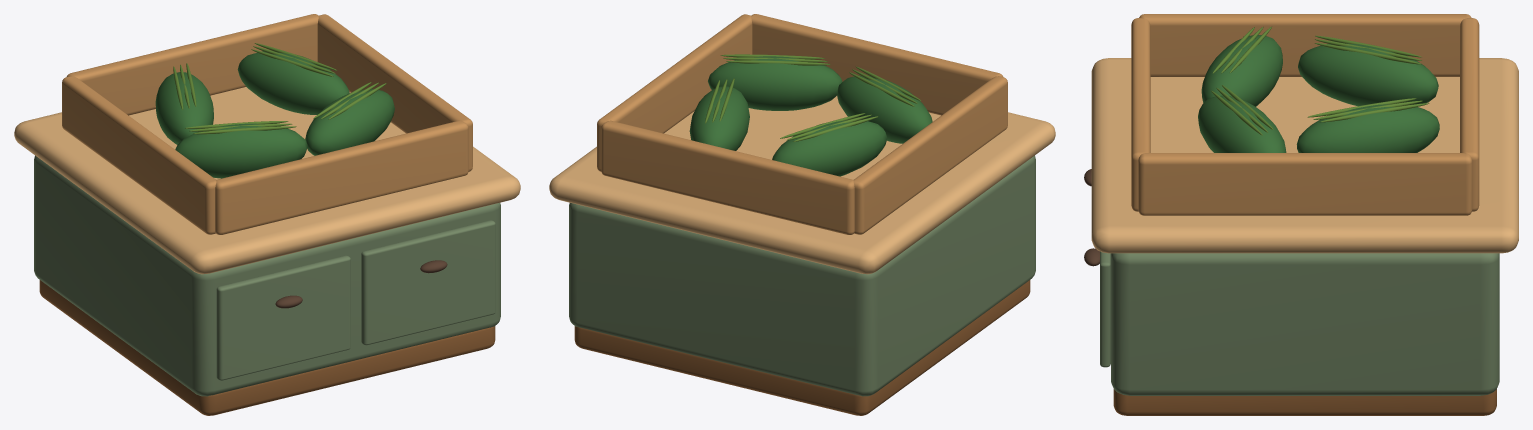
Rendered from source-cucumber.obj.
3 views of the same model, side by side, from view 1: azimuth 30°, elevation 25°; view 2: azimuth 150°, elevation 25°; view 3: azimuth 270°, elevation 25° (orthographic). The views are drawn at different scales.
Visible parts, largest first — view 1: source-cucumber_sageDark, source-cucumber_oak, source-cucumber_oakLight, source-cucumber_cucumber, source-cucumber_oakDark, source-cucumber_leaf, source-cucumber_cocoa; view 2: source-cucumber_sageDark, source-cucumber_oak, source-cucumber_oakLight, source-cucumber_cucumber, source-cucumber_oakDark, source-cucumber_leaf; view 3: source-cucumber_sageDark, source-cucumber_oak, source-cucumber_oakLight, source-cucumber_cucumber, source-cucumber_oakDark, source-cucumber_leaf.
Part boxes in pixels (bbox=[...]): source-cucumber_sageDark: bbox=[34, 155, 500, 396]; source-cucumber_oak: bbox=[62, 14, 472, 234]; source-cucumber_oakLight: bbox=[14, 87, 520, 274]; source-cucumber_cucumber: bbox=[155, 51, 394, 178]; source-cucumber_oakDark: bbox=[39, 280, 495, 415]; source-cucumber_leaf: bbox=[173, 43, 386, 134]; source-cucumber_cocoa: bbox=[275, 260, 447, 308]; source-cucumber_sageDark: bbox=[569, 155, 1035, 396]; source-cucumber_oak: bbox=[597, 14, 1007, 234]; source-cucumber_oakLight: bbox=[549, 96, 1055, 274]; source-cucumber_cucumber: bbox=[689, 56, 932, 176]; source-cucumber_oakDark: bbox=[574, 280, 1030, 415]; source-cucumber_leaf: bbox=[705, 54, 920, 141]; source-cucumber_sageDark: bbox=[1100, 251, 1499, 395]; source-cucumber_oak: bbox=[1131, 14, 1479, 215]; source-cucumber_oakLight: bbox=[1091, 58, 1518, 253]; source-cucumber_cucumber: bbox=[1198, 35, 1439, 152]; source-cucumber_oakDark: bbox=[1113, 389, 1496, 415]; source-cucumber_leaf: bbox=[1211, 26, 1429, 135].
Size of the model in its own units: 0.78 by 0.5255 by 0.794.
